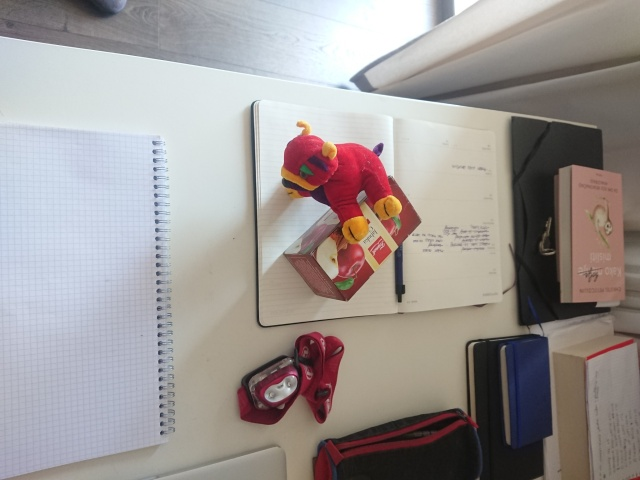Franck Apple Cinnamon Tea 60g: (280, 169, 423, 302)
